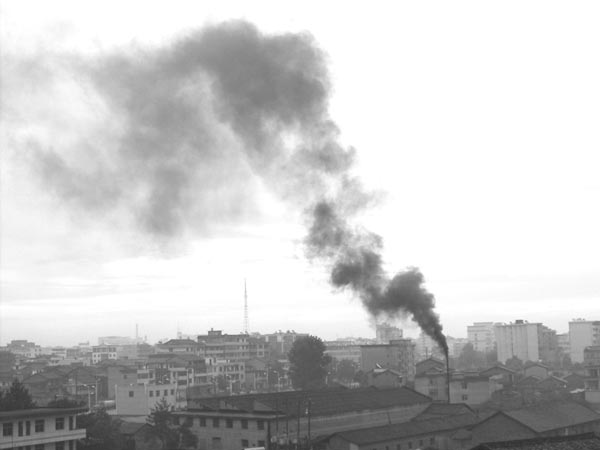dust: (378, 265, 454, 362)
